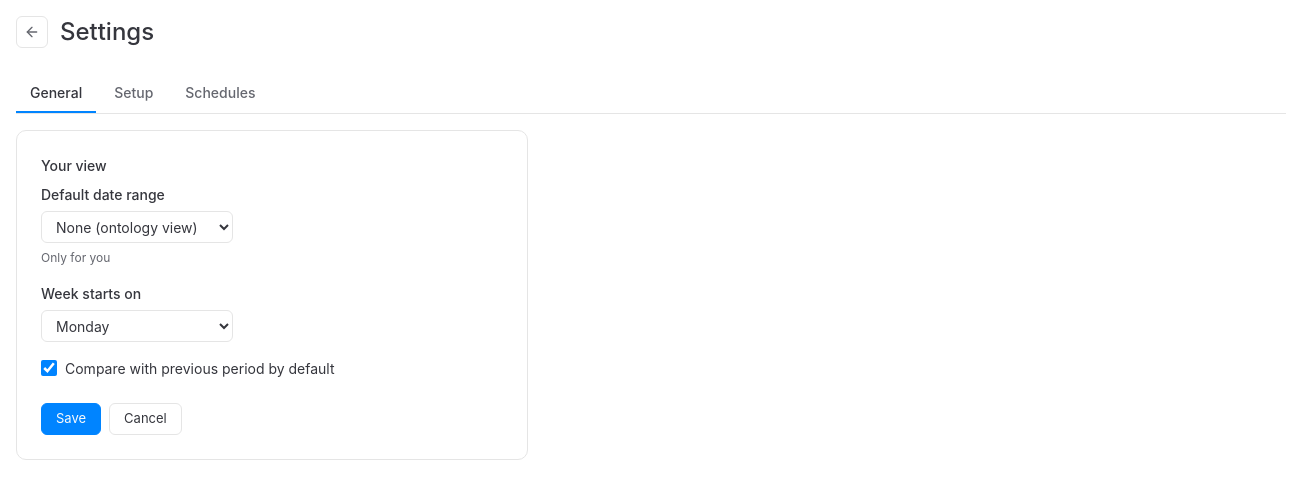
the Schedules tab follows Setup and renders the schedules tab
Click the tab "Schedules" at coordinates (220, 94), box [171, 74, 269, 113]
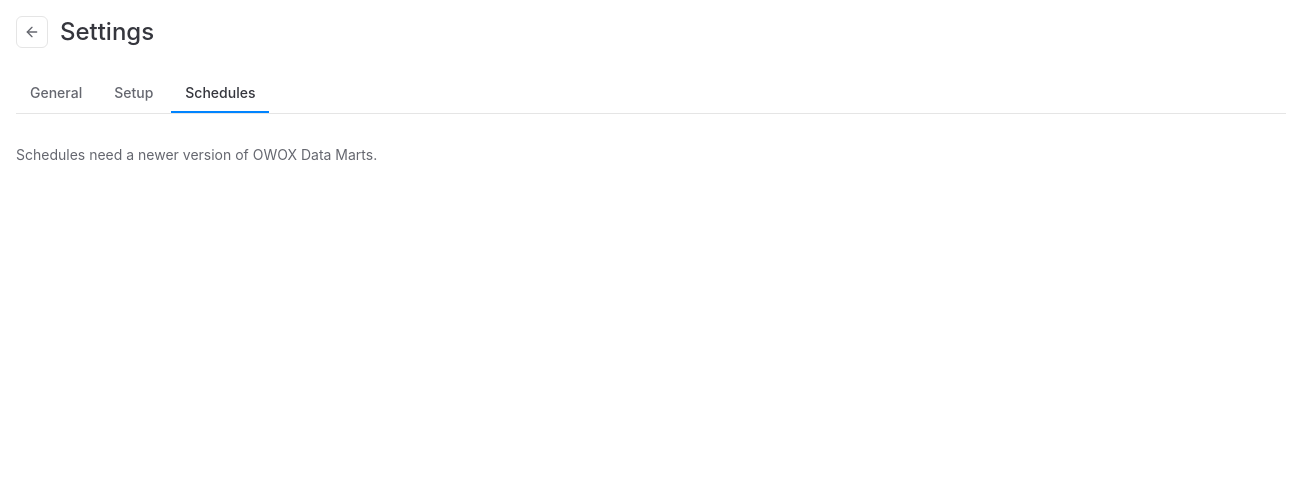
Expected: the text "Schedules need a newer version of OWOX Data Marts." is shown, [16, 146, 377, 163]
